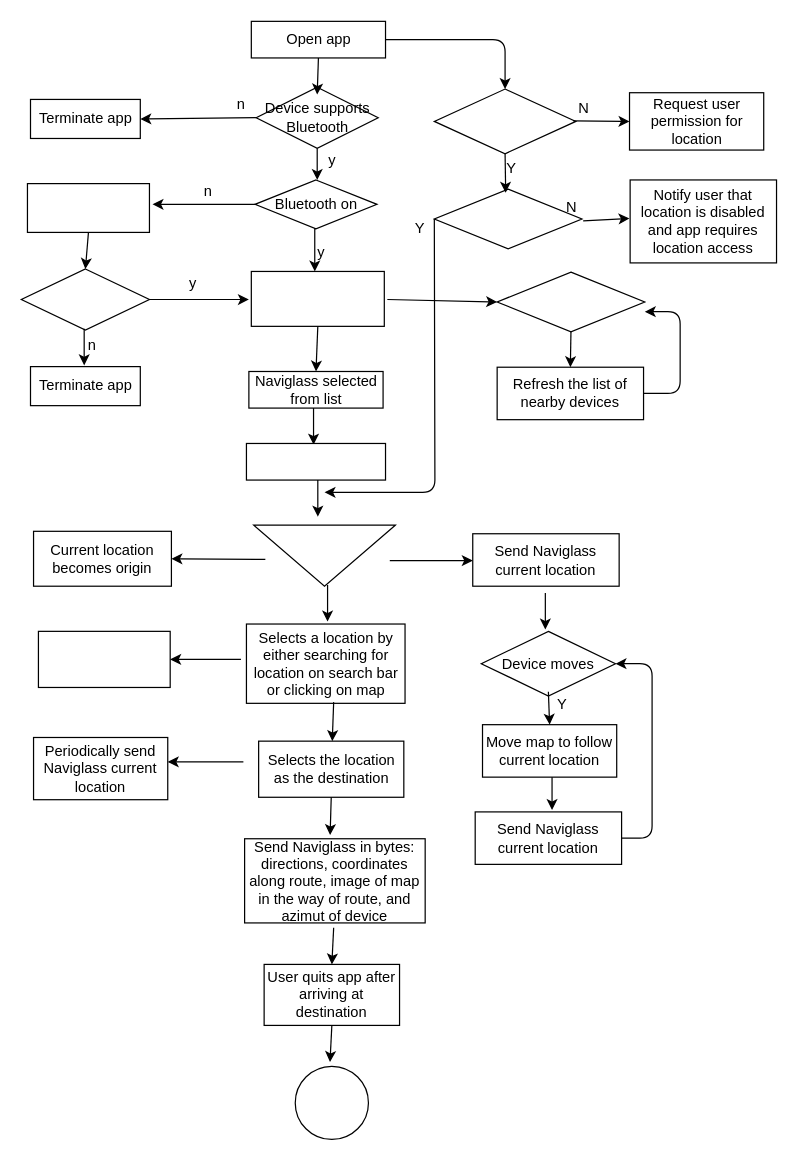
This 798x1161 diagram has some shape labels left out. The shapes that lost their labels are listed below. From the top down, each one's box as (x1, y1, x2, y2) in pixels, then its label:
(433, 88, 576, 154): App permission for location on
(26, 182, 149, 232): Request to turn Bluetooth on
(433, 188, 582, 249): Device GPS on
(20, 268, 149, 330): Request allowed
(250, 270, 384, 326): Show list of nearby Bluetooth-enabled devices
(496, 271, 645, 332): List is swiped down
(245, 442, 386, 480): Connect Bluetooth sockets
(253, 524, 395, 586): Show current location on map
(37, 630, 170, 687): Display route on map
(294, 1065, 368, 1139): End
